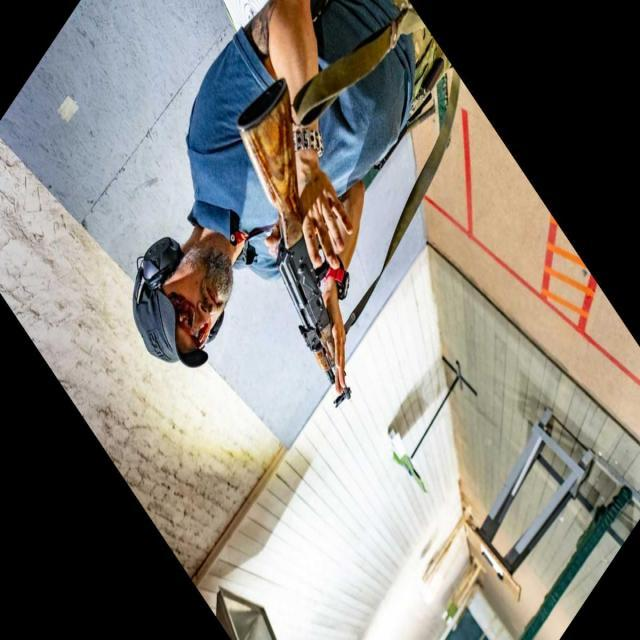weapon: (235, 78, 352, 410)
